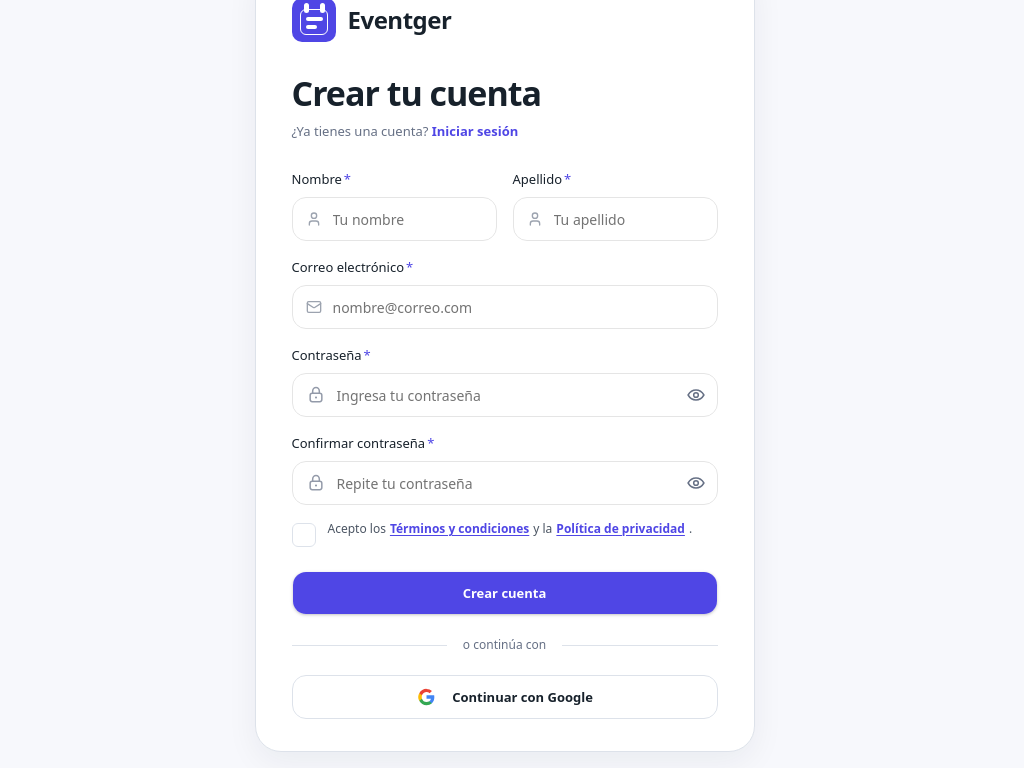
Test: SignUpPage › muestra los errores del registro con Google
(page scrolled)
Click the button with aria-label "Registrarme con Google" at (504, 697), box [292,675,718,719]
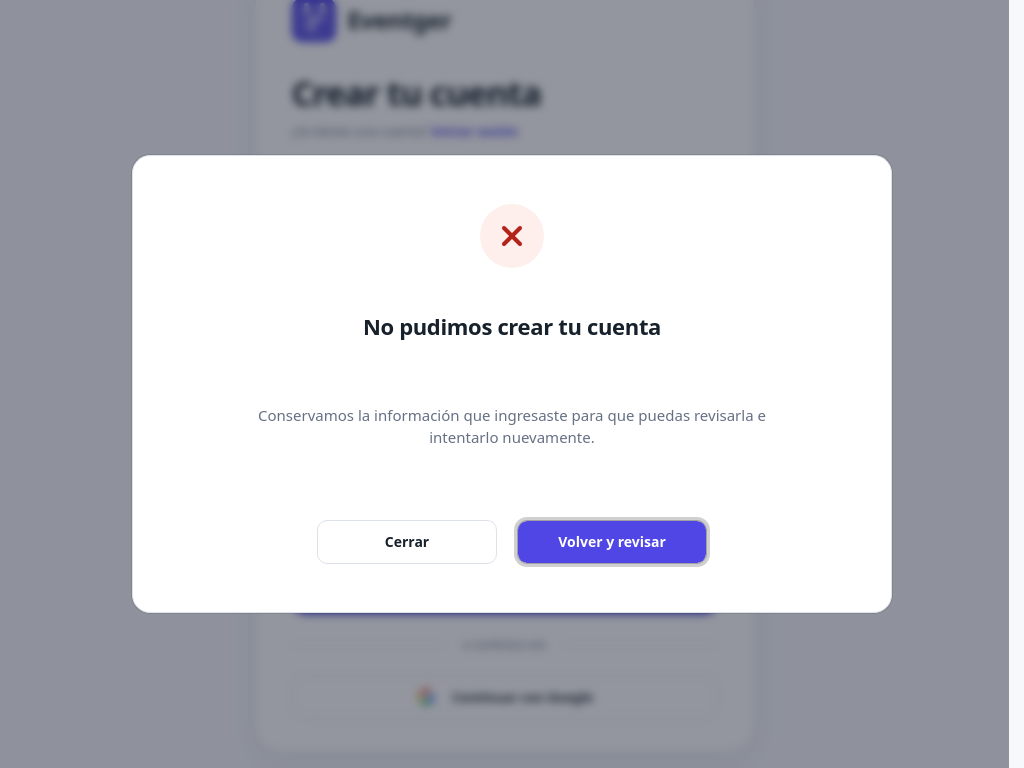
Expected: the dialog "No pudimos crear tu cuenta" is shown, [132,155,892,613]
Click the button "Cerrar" at (407, 542), box [317,520,497,564]
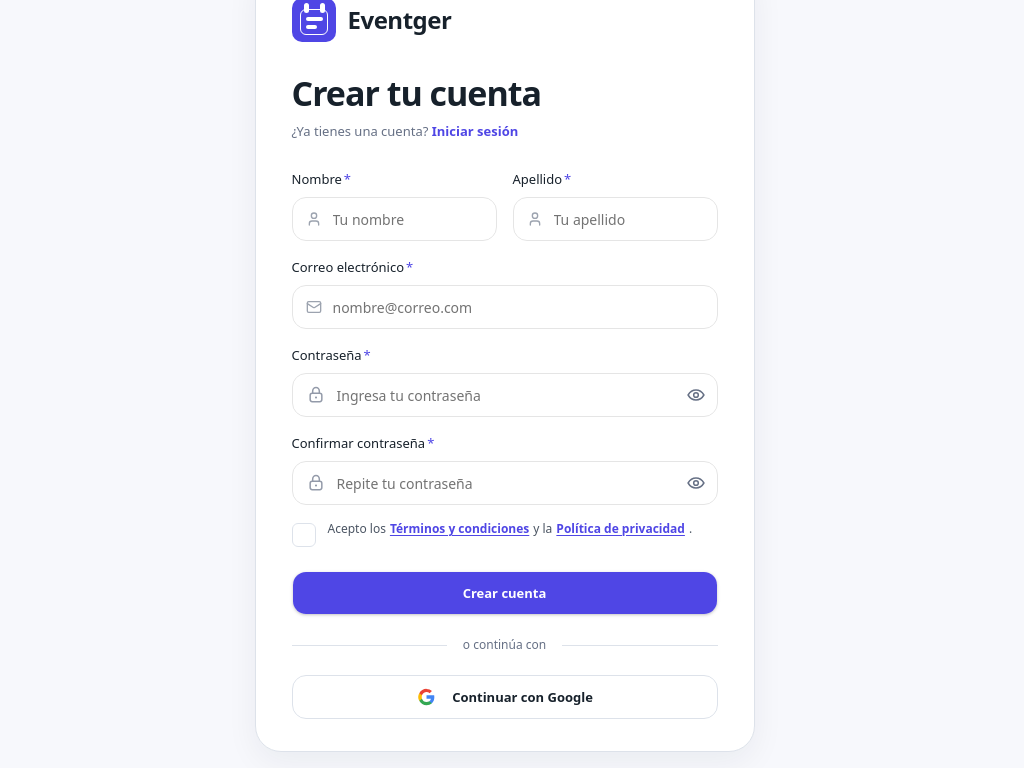
Click the button with aria-label "Registrarme con Google" at (504, 697), box [292,675,718,719]
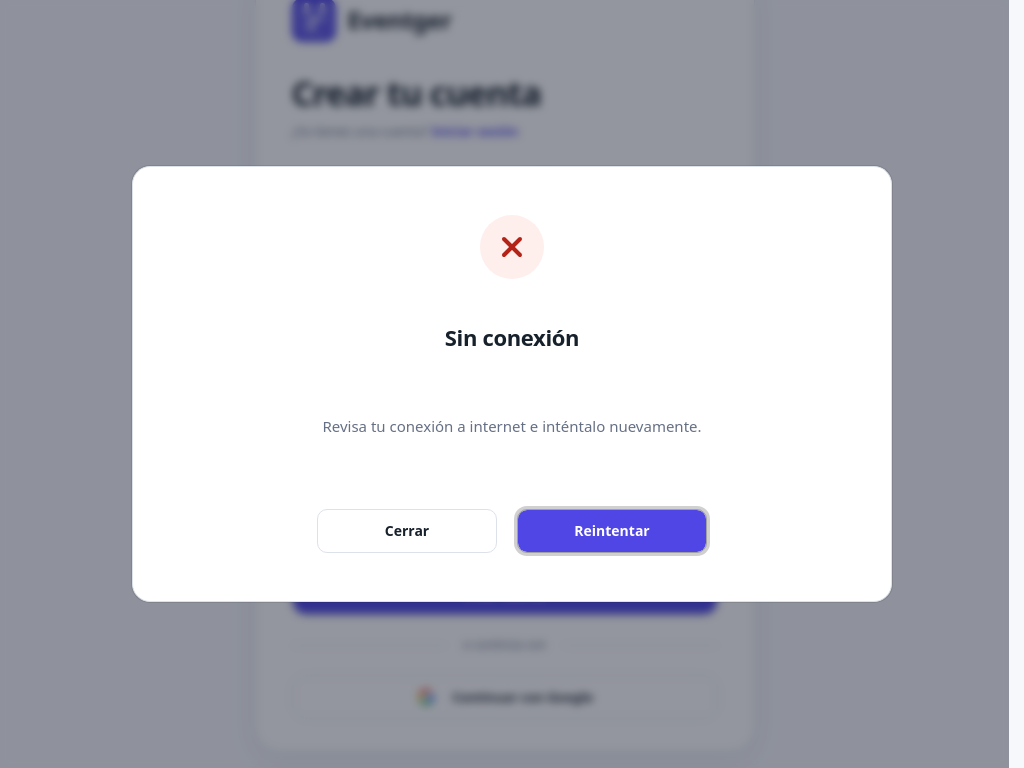
Expected: the dialog "Sin conexión" is shown, [132,166,892,602]
